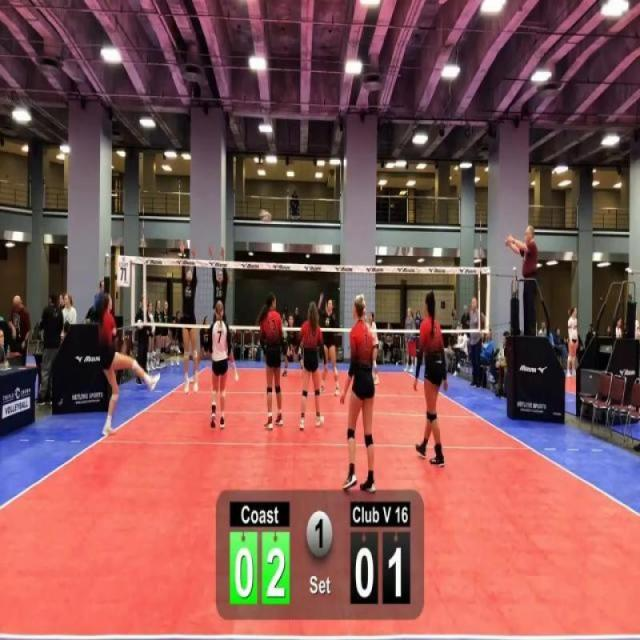volleyball: (258, 207, 272, 224)
